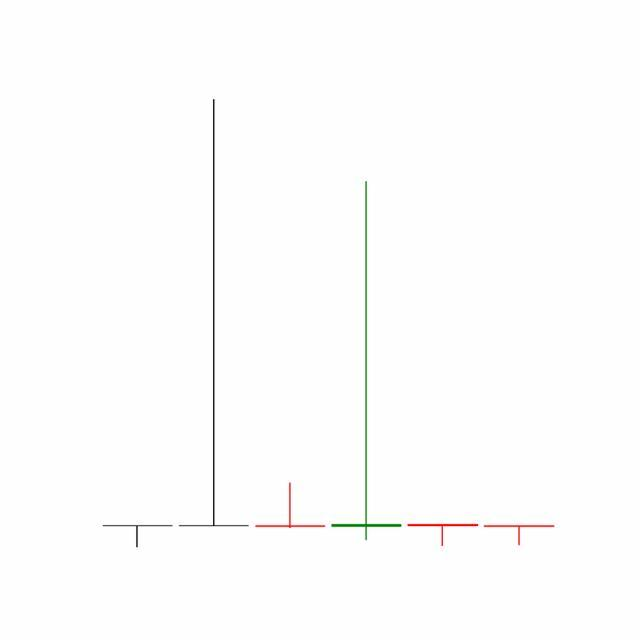Dragonfly Doji: (404, 525, 482, 548)
